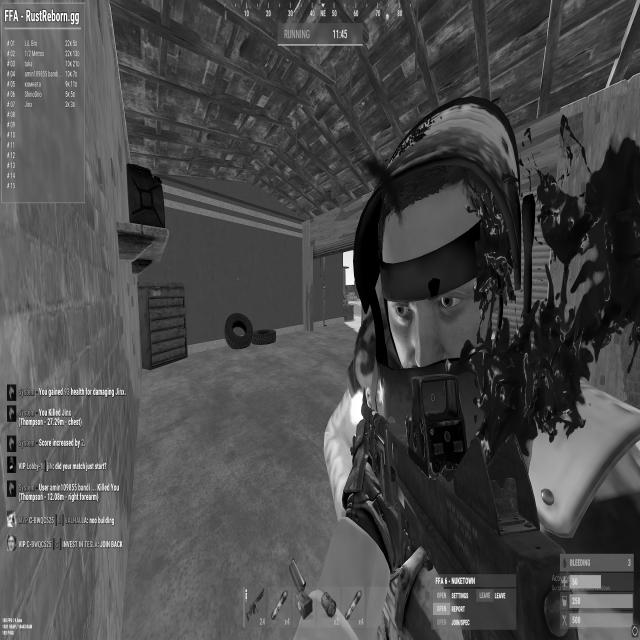Player: (322, 93, 637, 527), (356, 102, 520, 377)
